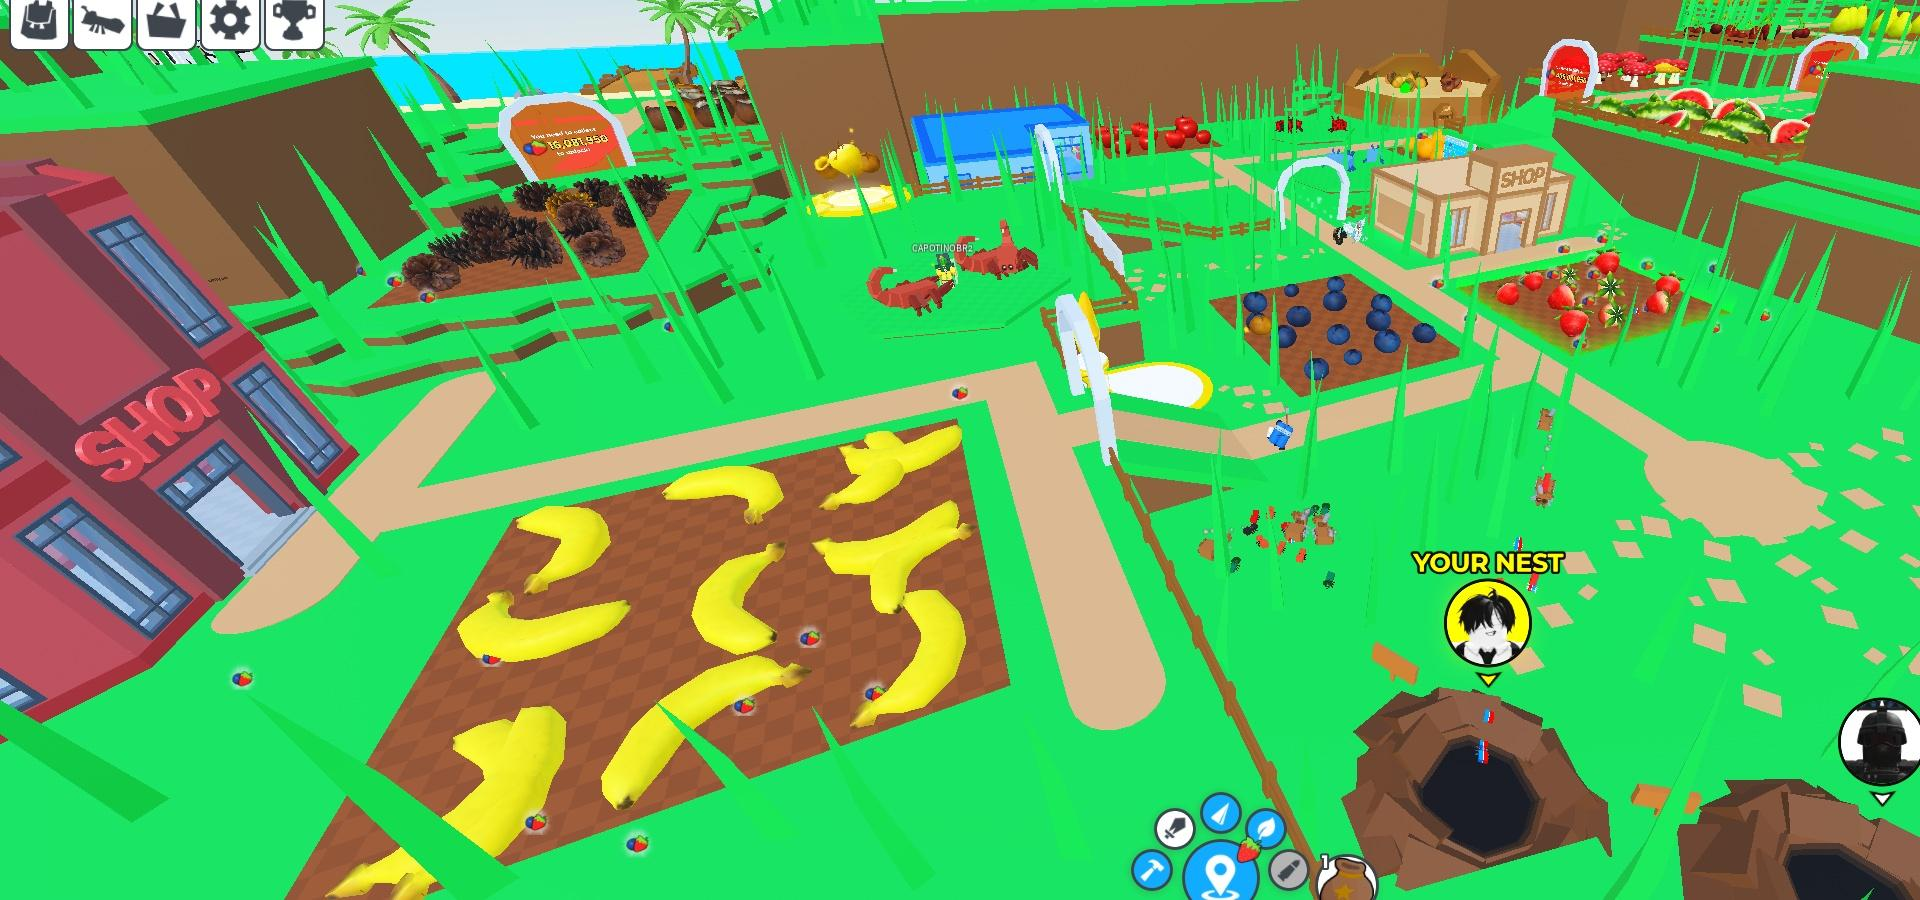Enemy: (1329, 146, 1359, 168), (1364, 145, 1390, 162), (1330, 115, 1351, 135), (1280, 115, 1304, 132)
